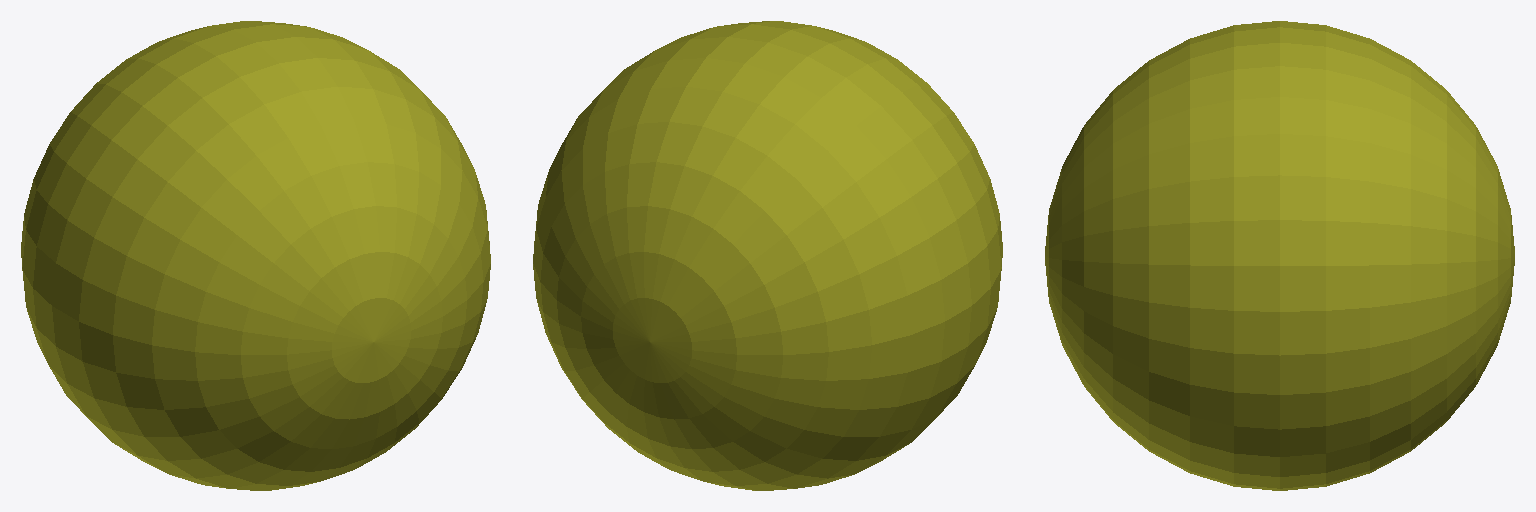
robot.urdf — urdf_robot:
<?xml version="0.0" ?>
<robot name="urdf_robot">
  <link name="baseLink">
    <inertial>
      <origin rpy="0 0 0" xyz="0 0 0"/>
      <mass value="0.0"/>
      <inertia ixx="1" ixy="0" ixz="0" iyy="1" iyz="0" izz="1"/>
    </inertial>
    <visual>
      <origin rpy="0 0 0" xyz="0 0 0"/>
      
      <geometry>
				<!--<sphere radius = "2" />-->
        <mesh filename="smooth_sphere.obj" scale="1"/>      

			</geometry>
      <material name="white">
        <color rgba="0.65 0.65 0.2 .45"/>
      </material>
    </visual>
    
  </link>
</robot>

--- Facts derived from the render (not from the file) ---
3 views of the same robot in one strip: view 1: azimuth 30°, elevation 25°; view 2: azimuth 150°, elevation 25°; view 3: azimuth 270°, elevation 25° (orthographic).
Model urdf_robot with 1 links and 0 joints (none), rooted at baseLink, posed all joints at 0.
Visible links, largest first — view 1: baseLink; view 2: baseLink; view 3: baseLink.
Link boxes in pixels (left/top/right/bottom): baseLink: left=21, top=21, right=490, bottom=490; baseLink: left=533, top=21, right=1002, bottom=490; baseLink: left=1045, top=21, right=1514, bottom=490.
Size in the robot's own frame: 2 by 2 by 2 metres.
1 mesh visuals loaded from 1 distinct referenced files (1 OBJ).